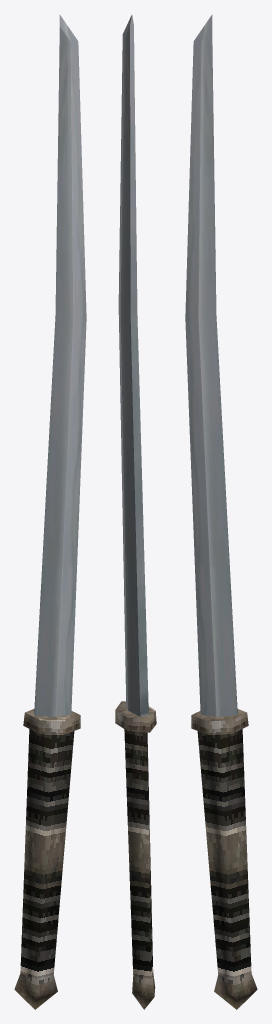
File: wp_mle_2h_sword_s01_l1.fbx
3 views of the same model, side by side, from view 1: azimuth 90°, elevation 25°; view 2: azimuth 210°, elevation 25°; view 3: azimuth 270°, elevation 25° (orthographic).
Visible parts, largest first — view 1: mesh_node; view 2: mesh_node; view 3: mesh_node.
Boxes of the visible parts, x1,y1,x2,y2 form: mesh_node: [14, 14, 86, 1009]; mesh_node: [115, 15, 156, 1009]; mesh_node: [185, 14, 257, 1009].
Bounding box in the file's own units: 0.0332 × 1.08 × 0.0708.
